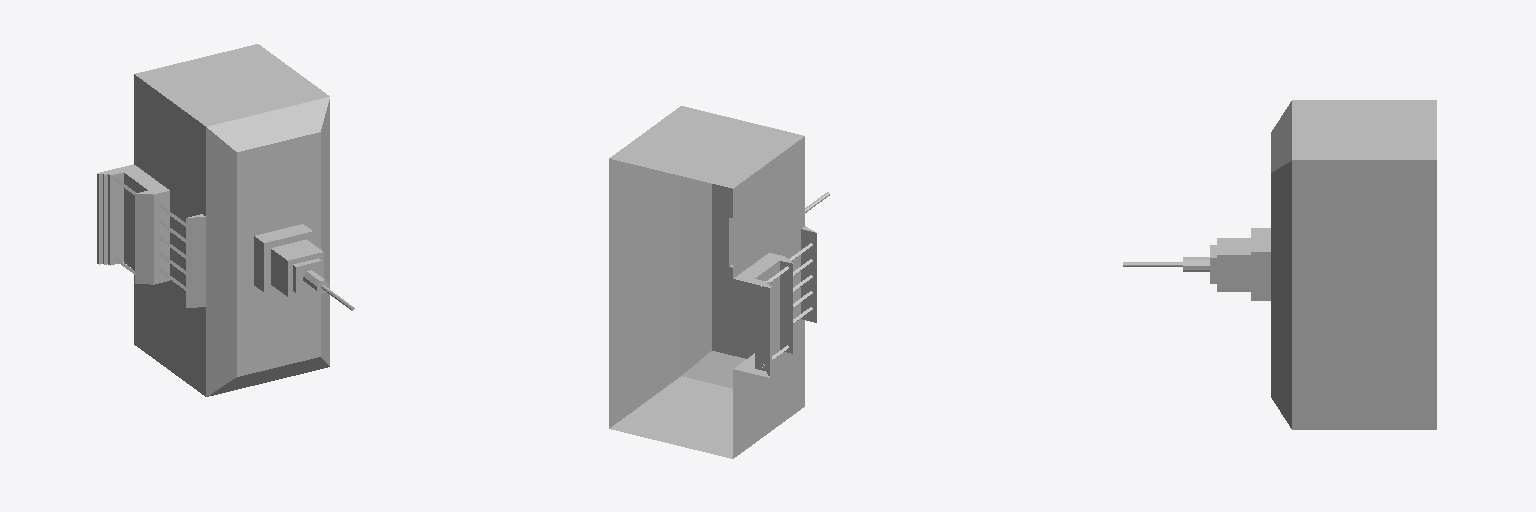
File: tower20.obj
3 views of the same model, side by side, from view 1: azimuth 30°, elevation 25°; view 2: azimuth 150°, elevation 25°; view 3: azimuth 270°, elevation 25° (orthographic).
Parts seen in each view (by area): view 1: tower20; view 2: tower20; view 3: tower20.
Part boxes in pixels (x1,y1,x2,y2): tower20: (97,44,354,396); tower20: (609,106,829,458); tower20: (1123,100,1436,429).
Bounding box in the file's own units: 25.48 × 40.87 × 42.94.